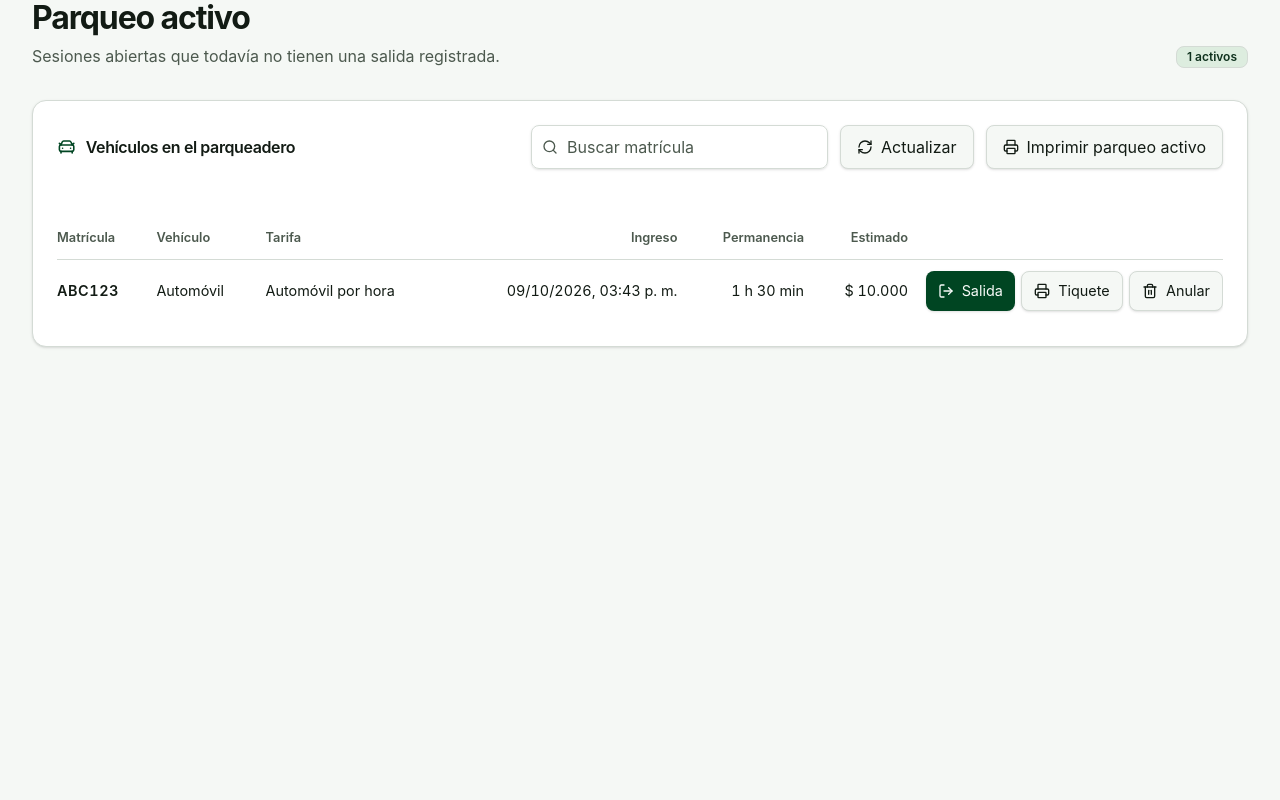
Test: Parqueo activo › no permite cobrar con efectivo insuficiente
This screenshot has width=1280, height=800.
Check: the table is shown, box 57,217 -> 1223,322
Click the button "Salida": (970, 291) 926,271 -> 1015,311
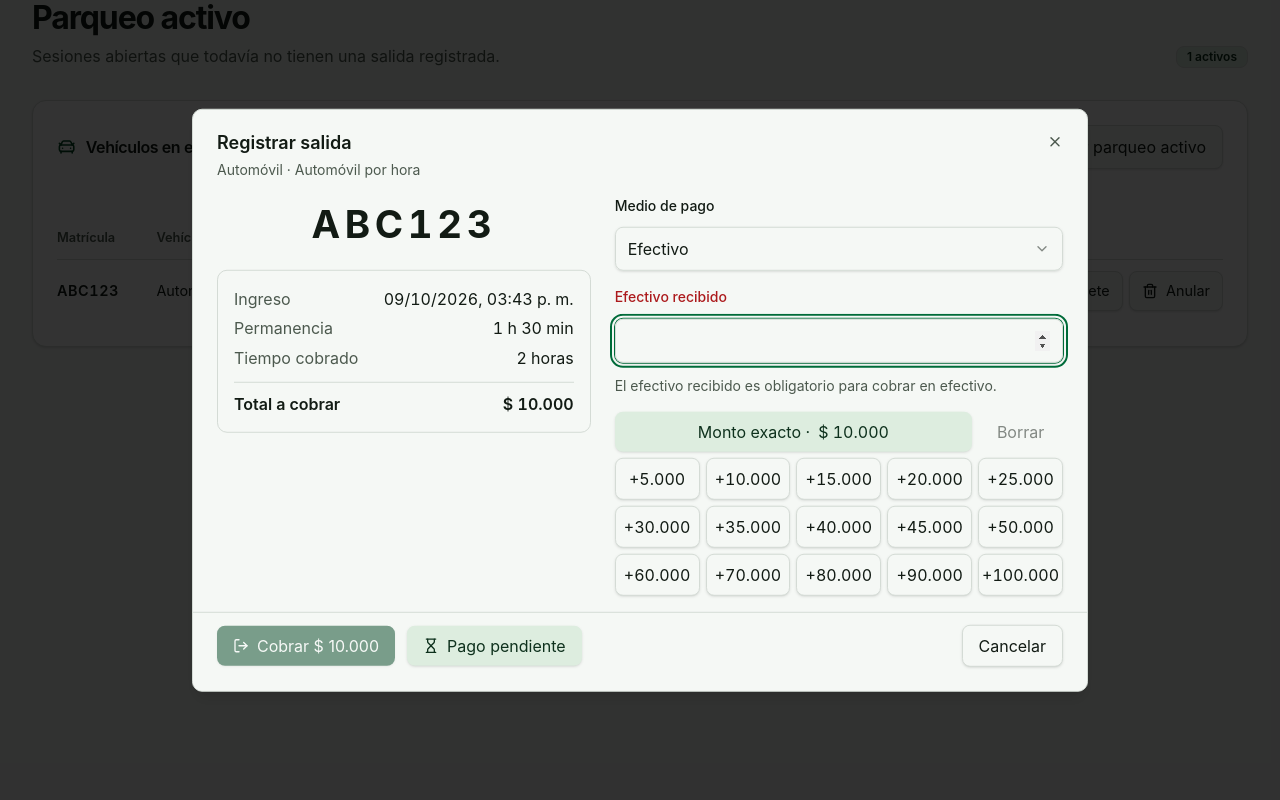
Check: the text "Total a cobrar" is shown, box 234,392 -> 340,416
In the number field labelled "Efectivo recibido": (839, 340) 615,318 -> 1063,362, type "5000"
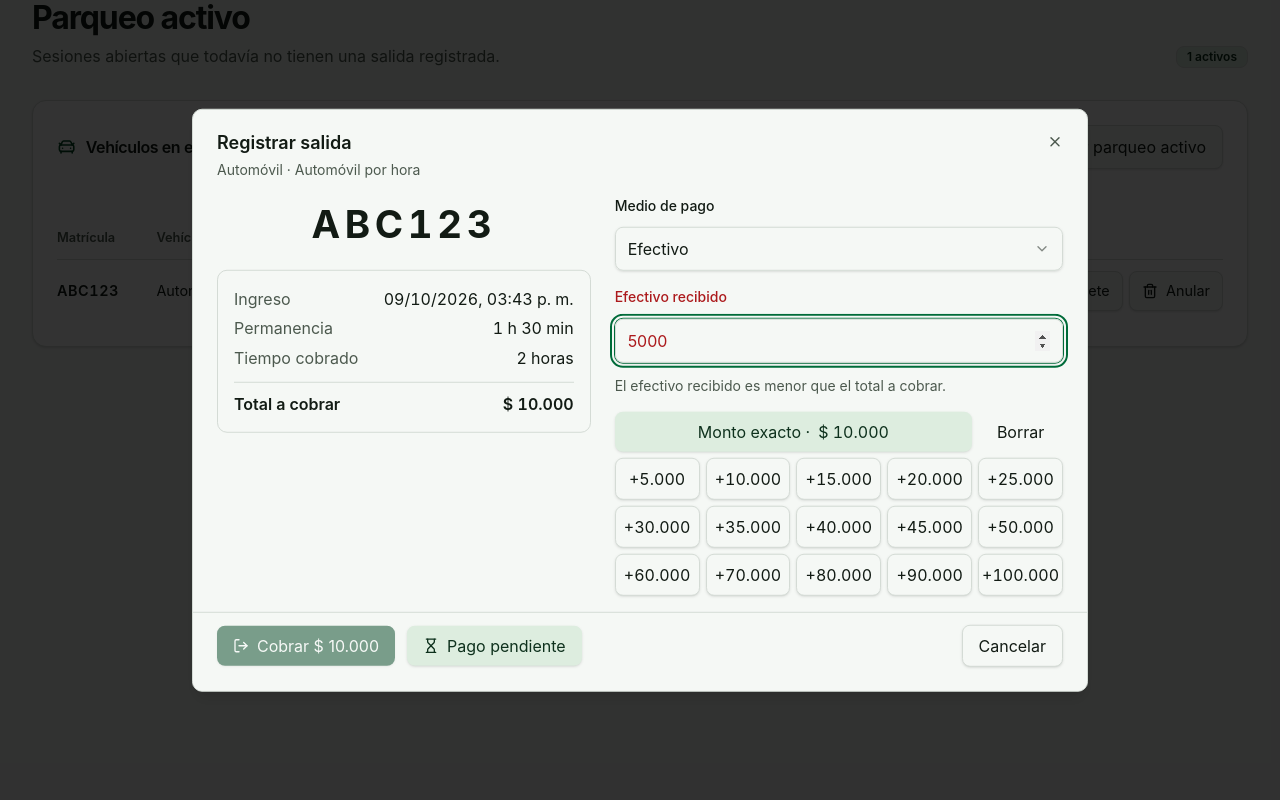
Check: the button "Cobrar $ 10.000" is disabled, box 217,625 -> 395,665
Check: the text "El efectivo recibido es menor que el total a cobrar." is shown, box 615,376 -> 946,393
